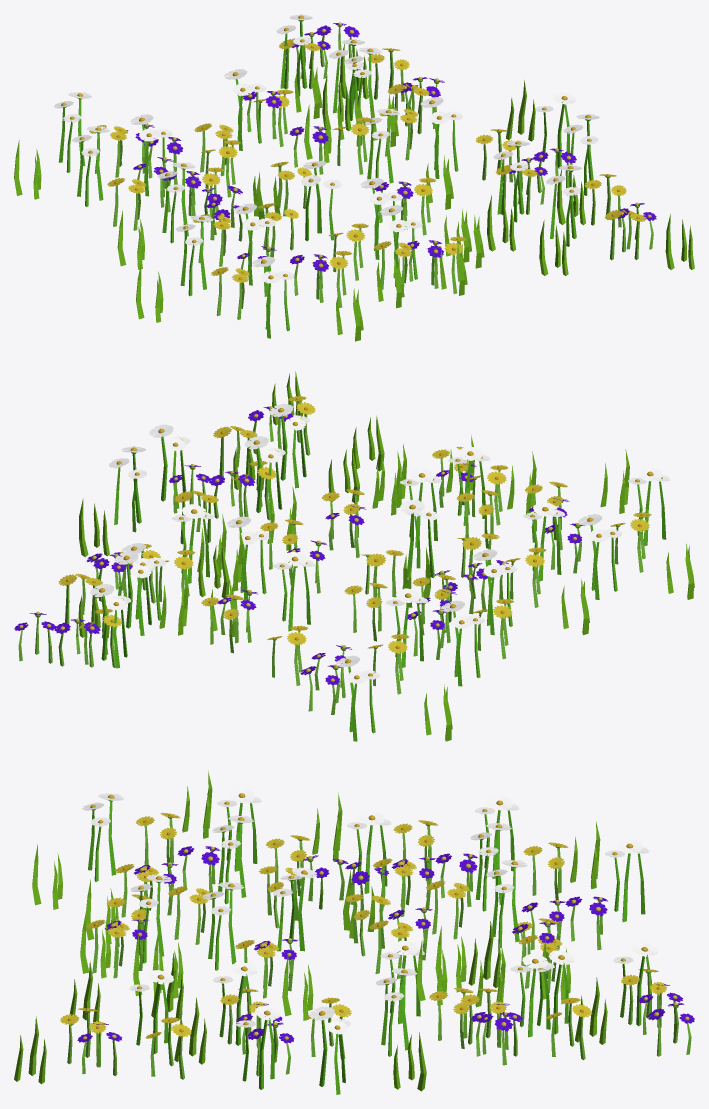
File: flowerGrass.obj
3 views of the same model, one above another, from view 1: azimuth 30°, elevation 25°; view 2: azimuth 150°, elevation 25°; view 3: azimuth 270°, elevation 25° (orthographic). The views are drawn at different scales.
Visible parts, largest first — view 1: Cylinder.043, Cylinder.040, Cylinder.065, Cylinder.015, Cylinder.057, Cylinder.069, Cylinder.011, Cylinder.077, Cylinder.049, Cylinder.007, Cylinder.035, Cylinder.073 (+45 smaller); view 2: Cylinder.065, Cylinder.081, Cylinder.077, Cylinder.043, Cylinder.057, Cylinder.049, Cylinder.015, Cylinder.053, Cylinder.035, Cylinder.040, Cylinder.061, Cylinder.007 (+35 smaller); view 3: Cylinder.061, Cylinder.035, Cylinder.072, Cylinder.043, Cylinder.011, Cylinder.053, Cylinder.069, Cylinder.025, Cylinder.049, Cylinder.065, Cylinder, Cylinder.031 (+56 smaller).
Boxes of the visible parts, bbox=[...] form: Cylinder.043: bbox=[301, 161, 341, 241]; Cylinder.040: bbox=[72, 126, 110, 206]; Cylinder.065: bbox=[546, 164, 582, 246]; Cylinder.015: bbox=[176, 215, 213, 296]; Cylinder.057: bbox=[493, 140, 529, 222]; Cylinder.069: bbox=[420, 97, 462, 178]; Cylinder.011: bbox=[252, 256, 294, 338]; Cylinder.077: bbox=[276, 14, 312, 96]; Cylinder.049: bbox=[224, 69, 266, 150]; Cylinder.007: bbox=[157, 162, 195, 243]; Cylinder.035: bbox=[54, 92, 91, 172]; Cylinder.073: bbox=[362, 109, 400, 183]; Cylinder.065: bbox=[269, 404, 309, 488]; Cylinder.081: bbox=[114, 551, 155, 635]; Cylinder.077: bbox=[90, 584, 130, 668]; Cylinder.043: bbox=[400, 499, 439, 577]; Cylinder.057: bbox=[244, 436, 285, 520]; Cylinder.049: bbox=[272, 551, 314, 631]; Cylinder.015: bbox=[578, 514, 622, 599]; Cylinder.053: bbox=[149, 424, 190, 508]; Cylinder.035: bbox=[336, 655, 380, 741]; Cylinder.040: bbox=[440, 600, 484, 686]; Cylinder.061: bbox=[109, 446, 146, 532]; Cylinder.007: bbox=[473, 549, 517, 635]; Cylinder.061: bbox=[309, 1006, 350, 1094]; Cylinder.035: bbox=[605, 838, 649, 922]; Cylinder.072: bbox=[510, 953, 554, 1037]; Cylinder.043: bbox=[272, 867, 317, 951]; Cylinder.011: bbox=[82, 793, 123, 881]; Cylinder.053: bbox=[236, 1006, 280, 1089]; Cylinder.069: bbox=[375, 968, 417, 1056]; Cylinder.025: bbox=[202, 882, 244, 970]; Cylinder.049: bbox=[486, 860, 527, 948]; Cylinder.065: bbox=[129, 970, 173, 1053]; Cylinder: bbox=[212, 815, 253, 904]; Cylinder.031: bbox=[470, 823, 511, 911].
Size of the model in its own units: 2.14 by 0.4386 by 2.31.
